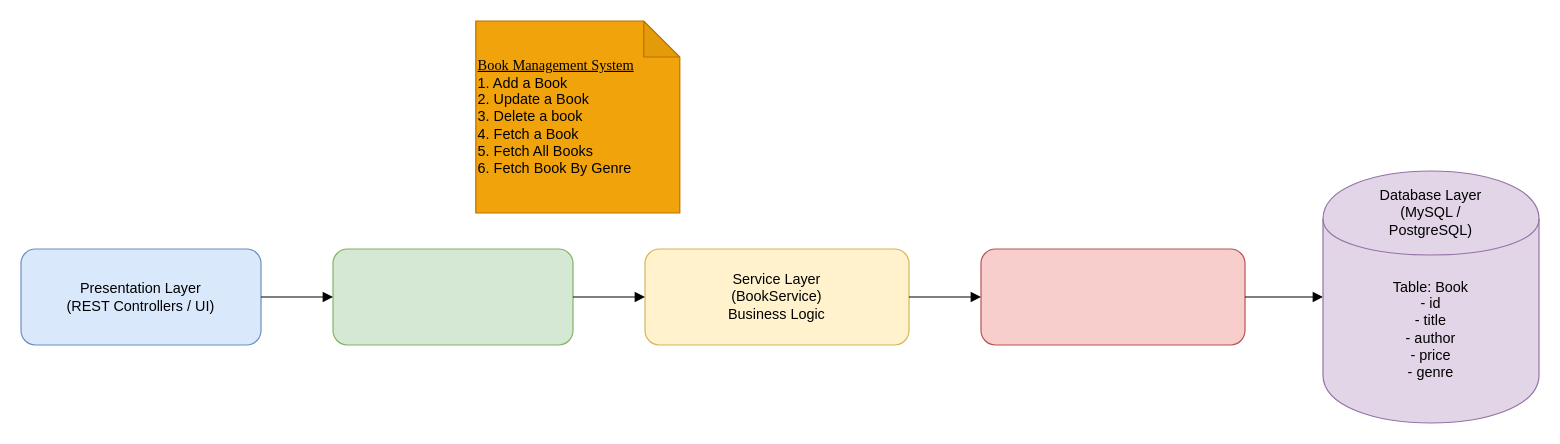
Image size: 1560x444. Some labels were removed from this diagram. Each missing label, with the centre of its shape:
Controller Layer (BookController): (x=452, y=296)
DAO Layer (BookRepository / JPA): (x=1112, y=296)
